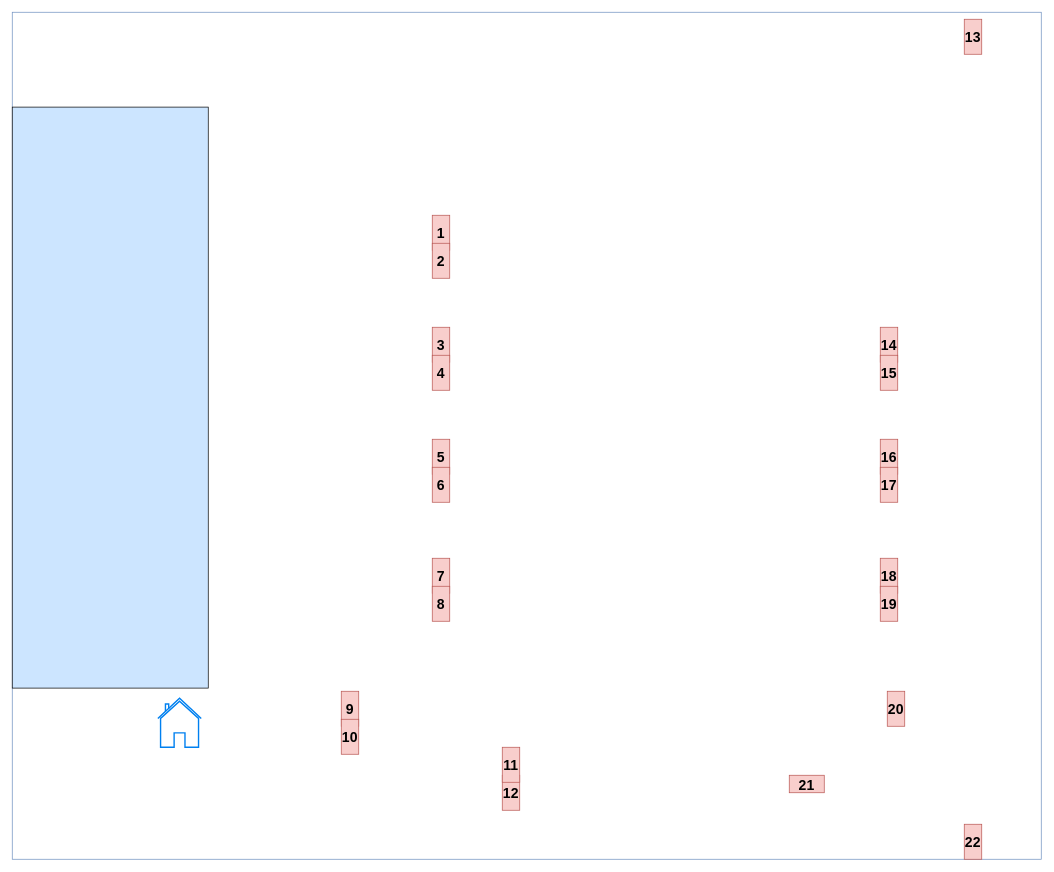
Some shapes in this 1054 by 872 pixel diagram are drawn without their labels. Each missing label, with the centre of its shape:
COSTCO CLACKAMAS WAREHOUSE #97: (110,397)
THE PAD: (179,722)
